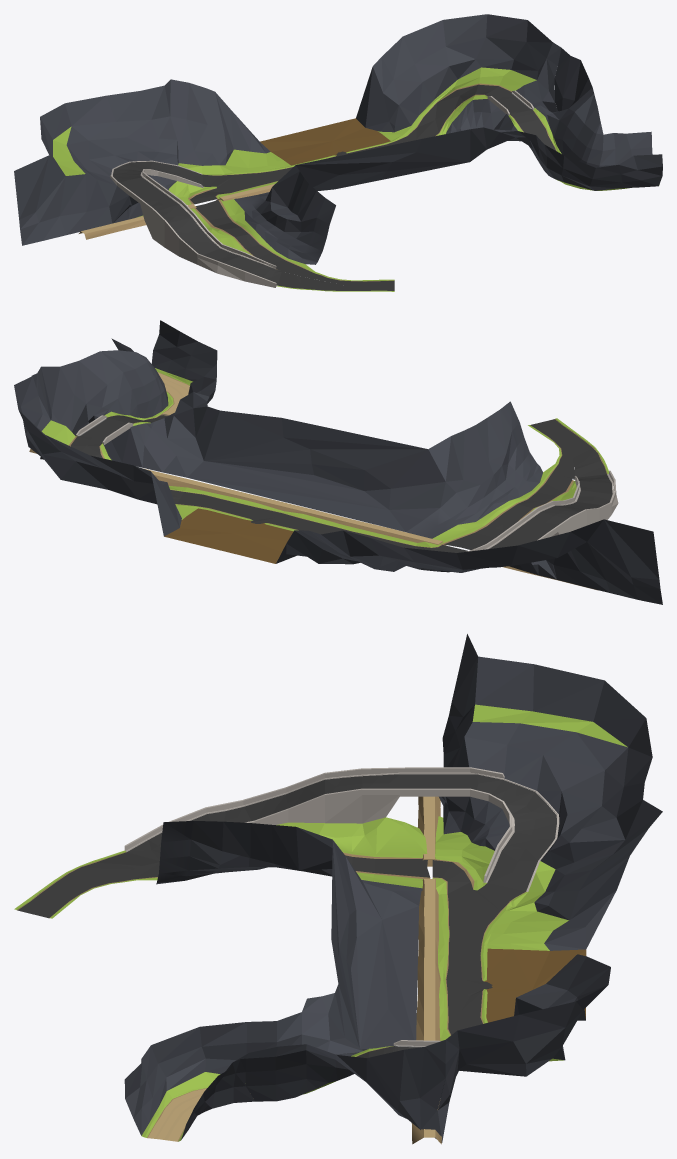
The model's file is track1_land.FBX.
The picture shows the model from 3 angles, top to bottom: view 1: azimuth 30°, elevation 25°; view 2: azimuth 150°, elevation 25°; view 3: azimuth 270°, elevation 25°; orthographic projection. The views are drawn at different scales.
Visible parts, largest first — view 1: rock1, slope1, Env_Road_Ramp, bridge_enter_1, wall4, wall5, road_1, farm_road1, road_2 (1), fork_1 (1), fork_3, rr_bed; view 2: wall5, rock1, bridge_enter_1, wall4, slope1, farm_road1, Env_Road_Ramp, road_1, road_2 (1), rr_bed, fork_3, fork_1 (1); view 3: rock1, Env_Road_Ramp, bridge_enter_1, wall5, slope1, road_1, fork_1 (1), wall4, farm_road1, road_2 (1), rr_bed, fork_3.
Part boxes in pixels (box(x1,y1,x2,y2)): rock1: box(14, 79, 284, 245); slope1: box(356, 14, 561, 139); Env_Road_Ramp: box(110, 160, 281, 287); bridge_enter_1: box(470, 48, 600, 175); wall4: box(234, 165, 335, 264); wall5: box(258, 129, 470, 200); road_1: box(544, 122, 662, 190); farm_road1: box(260, 118, 415, 169); road_2 (1): box(190, 199, 304, 270); fork_1 (1): box(127, 167, 289, 219); fork_3: box(277, 264, 394, 291); rr_bed: box(79, 184, 274, 239); wall5: box(187, 410, 445, 531); rock1: box(276, 519, 662, 604); bridge_enter_1: box(32, 350, 219, 477); wall4: box(406, 401, 542, 538); slope1: box(14, 376, 186, 536); farm_road1: box(164, 487, 339, 563); Env_Road_Ramp: box(466, 470, 618, 551); road_1: box(111, 320, 217, 414); road_2 (1): box(432, 472, 576, 549); rr_bed: box(29, 449, 597, 590); fork_3: box(528, 418, 608, 478); fork_1 (1): box(329, 524, 539, 575); rock1: box(439, 634, 662, 950); Env_Road_Ramp: box(124, 767, 559, 891); bridge_enter_1: box(245, 984, 445, 1129); wall5: box(331, 840, 418, 1049); slope1: box(393, 954, 610, 1142); road_1: box(124, 1022, 254, 1141); fork_1 (1): box(432, 796, 527, 944); wall4: box(156, 821, 422, 905); farm_road1: box(438, 943, 586, 1040); road_2 (1): box(276, 817, 430, 888); rr_bed: box(411, 796, 441, 1144); fork_3: box(14, 850, 159, 918).
Size of the model in its own units: 402 by 57.74 by 269.
Materials: 3 (3 with a texture image).
